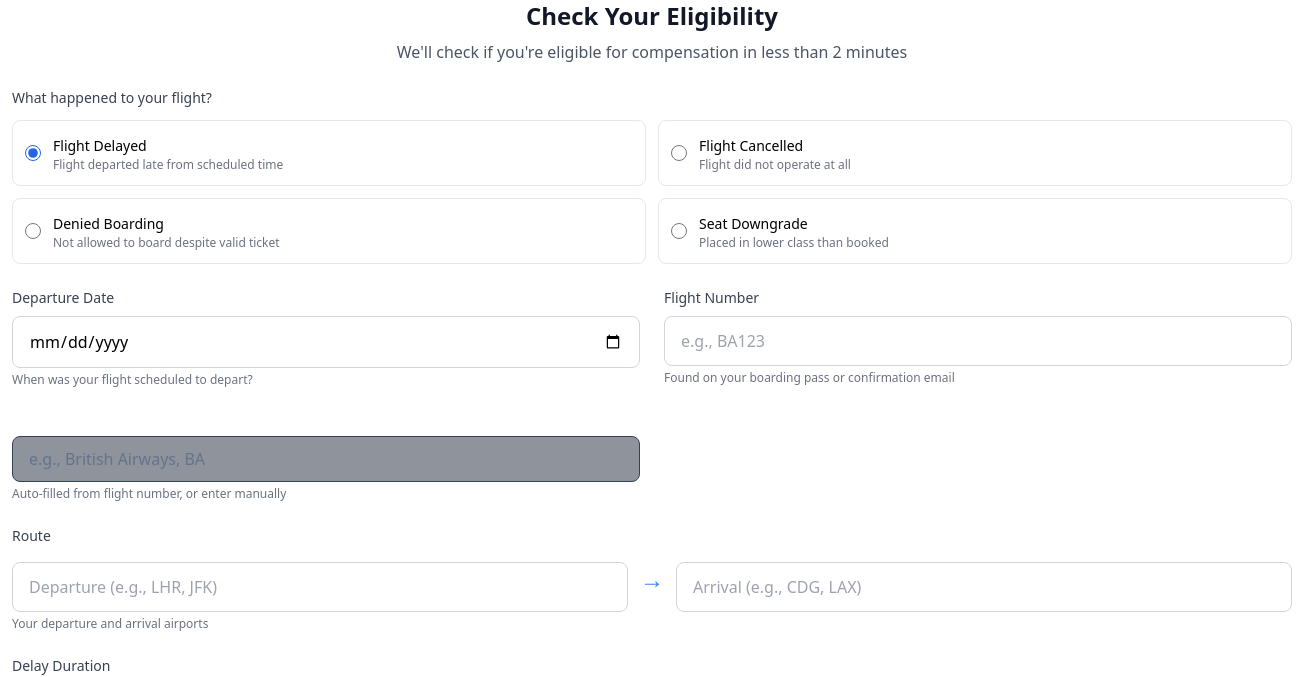
FlightLookupForm - Conditional Rendering › denied boarding-specific fields › should show denied boarding fields when denied boarding is selected
What coordinates should you click on to do the following:
click the radio button labelled "Denied Boarding Not allowed to board despite valid ticket"
I would click on:
 (33, 231)
Its box is [25,223,41,239].
(page scrolled)
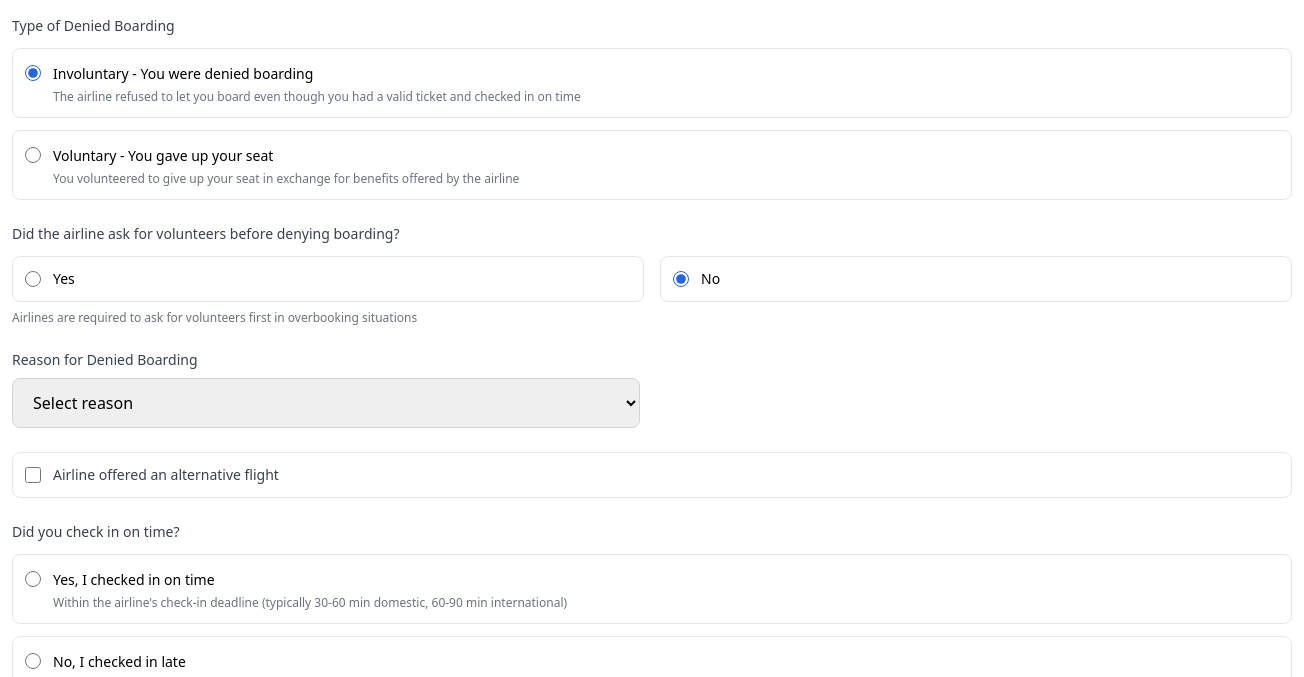
Expected: the text "Type of Denied Boarding" is shown, [12,16,175,35]
Expected: the text "Reason for Denied Boarding" is shown, [12,350,198,369]
